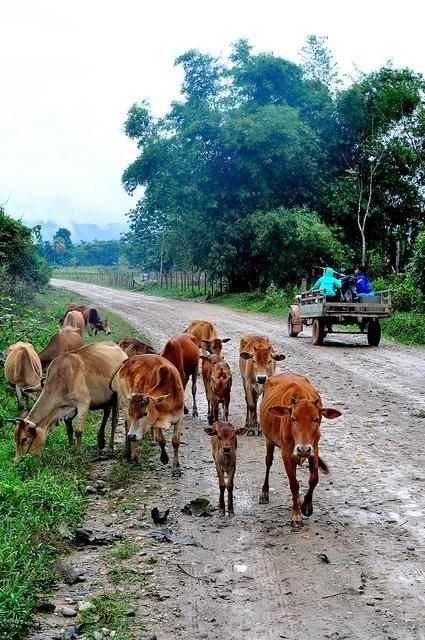truck: (288, 287, 396, 347)
